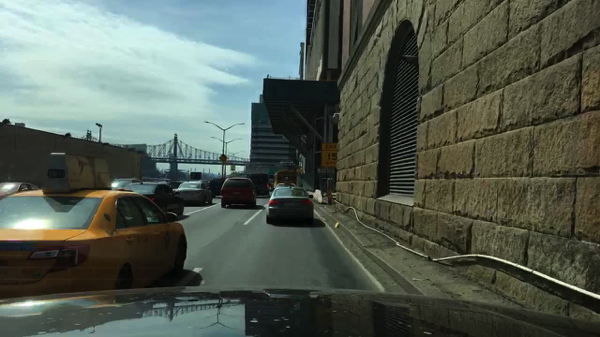bus: (272, 172, 298, 188)
car: (0, 190, 187, 299), (121, 182, 185, 220), (265, 188, 313, 225), (220, 178, 256, 209), (174, 180, 213, 205), (1, 182, 40, 200), (249, 172, 270, 197), (111, 179, 140, 191), (209, 177, 226, 197), (158, 181, 186, 191), (275, 184, 296, 188), (237, 172, 246, 179)
traffic sign: (322, 144, 337, 167), (219, 154, 226, 163)
